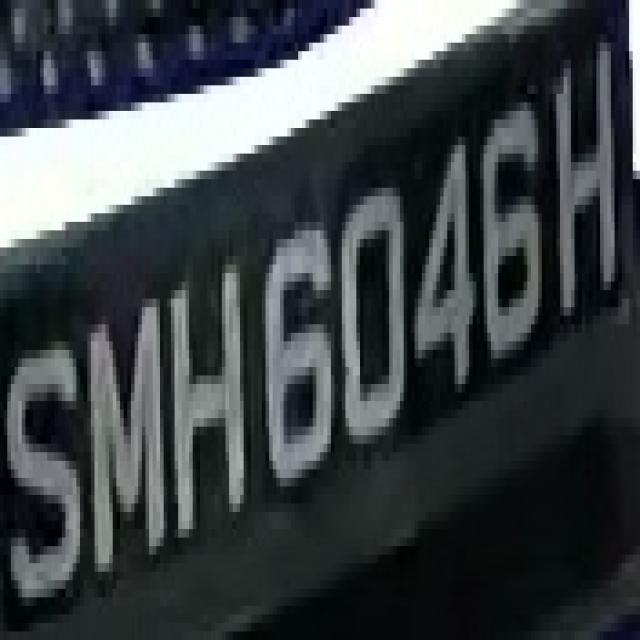0: (334, 188, 422, 461)
4: (411, 128, 487, 410)
6: (465, 85, 553, 392), (254, 222, 334, 512)
H: (156, 231, 255, 546), (542, 34, 629, 341)
M: (84, 290, 178, 606)
S: (11, 333, 84, 606)
